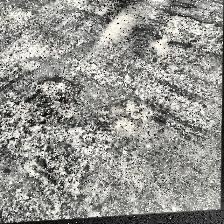pothole: (0, 72, 84, 160)
